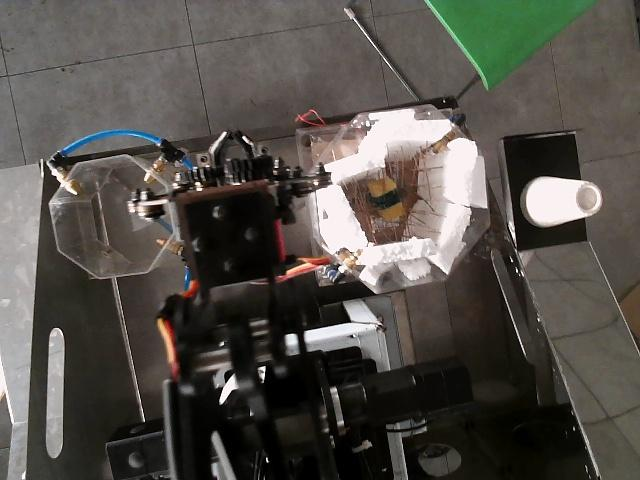cup: (521, 176, 603, 226)
